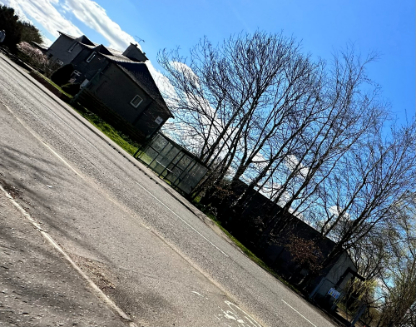tree: (271, 55, 394, 240), (181, 46, 309, 194), (319, 126, 416, 296)
